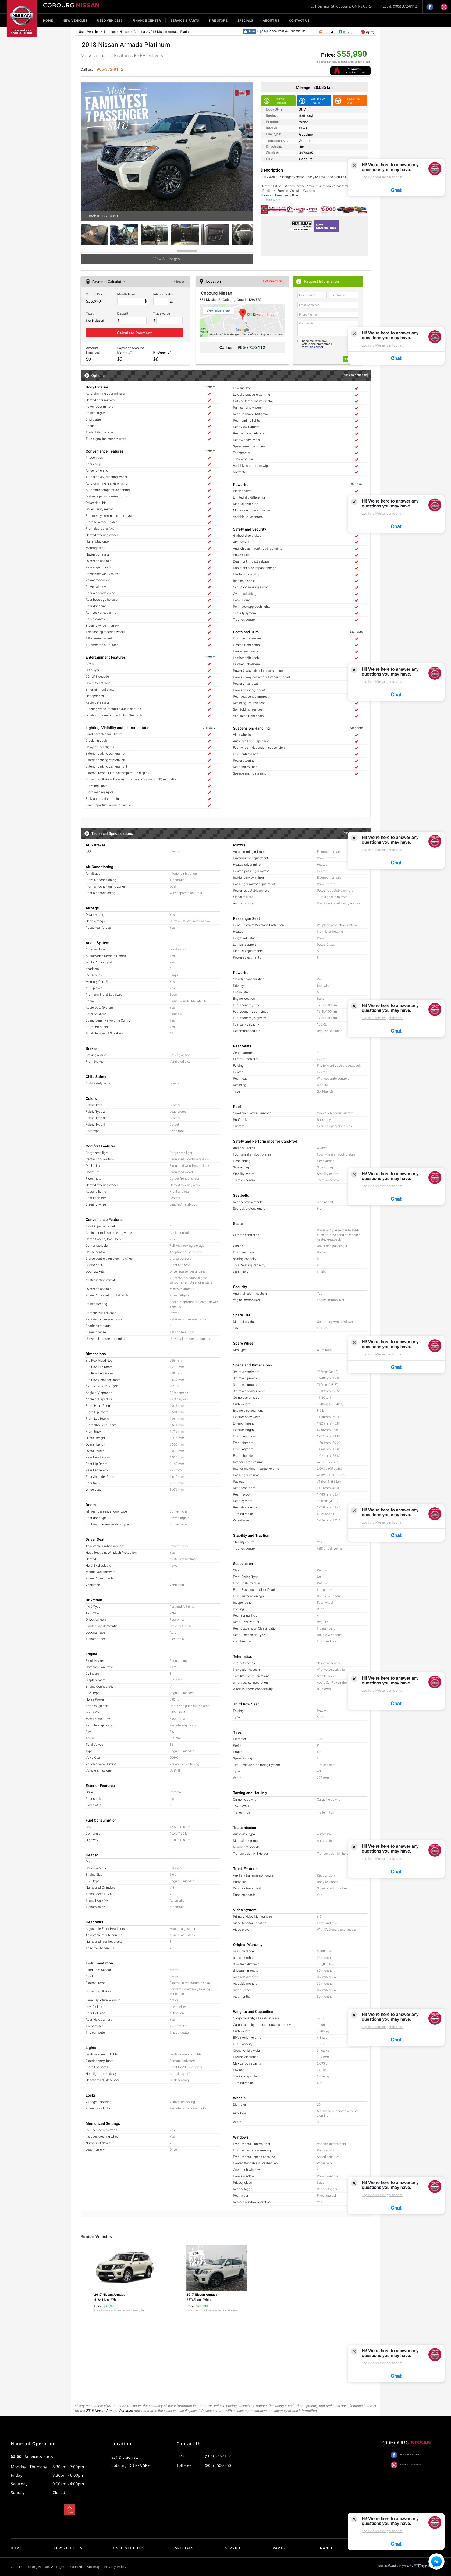car: (241, 140, 254, 153)
